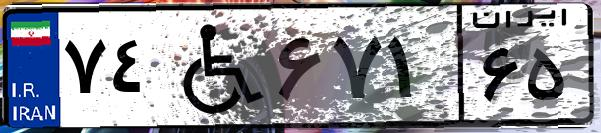1: (385, 28, 445, 110)
4: (110, 28, 158, 98)
5: (525, 38, 570, 115)
6: (270, 28, 330, 110), (475, 38, 525, 113)
7: (330, 28, 385, 110), (57, 26, 110, 100)
ژ (معلولین و جانبازان): (158, 12, 270, 120)
